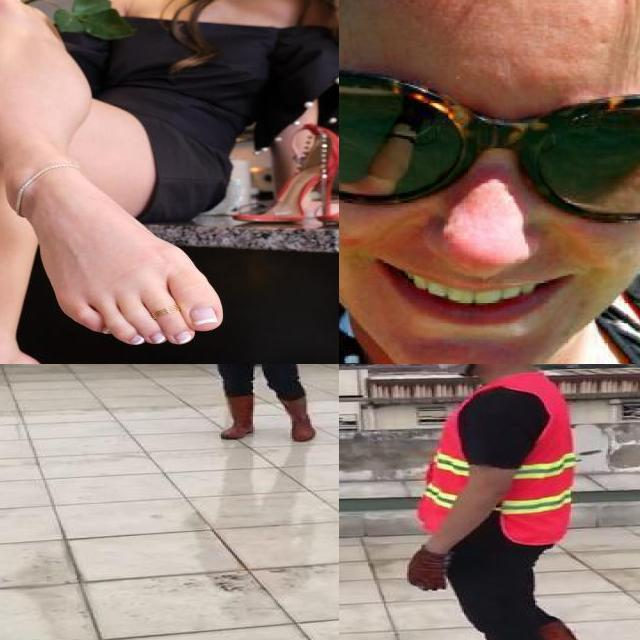Barefoots: (3, 149, 234, 356)
boots: (278, 399, 320, 442), (218, 395, 256, 440), (538, 618, 615, 640)
face_mask: (421, 364, 485, 374)
face_nomask: (339, 68, 604, 360)
glasses: (339, 53, 640, 230)
hand_glove: (407, 551, 450, 593)
person: (383, 364, 640, 640), (178, 364, 334, 440)
vest: (427, 374, 574, 545)
